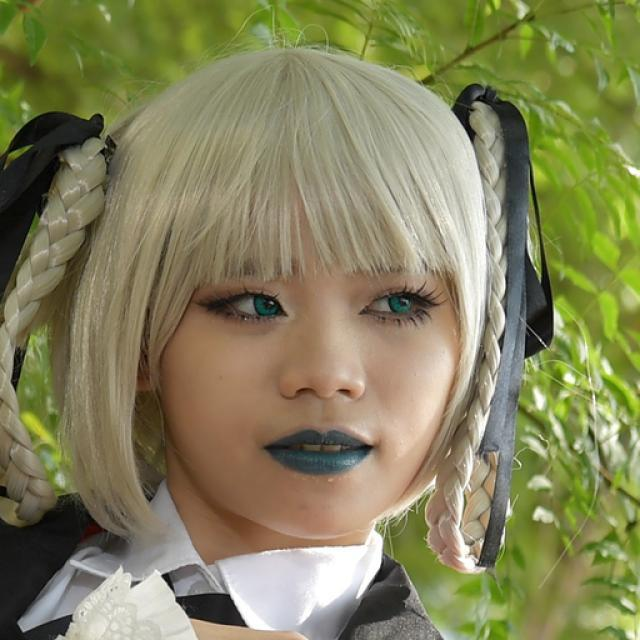neutral: (158, 160, 462, 539)
